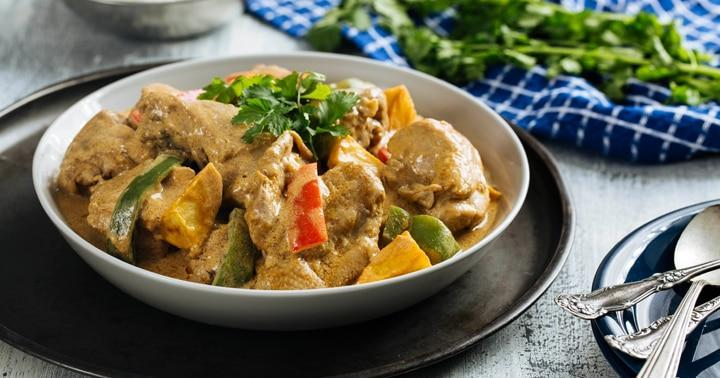chicken: (57, 71, 505, 272)
